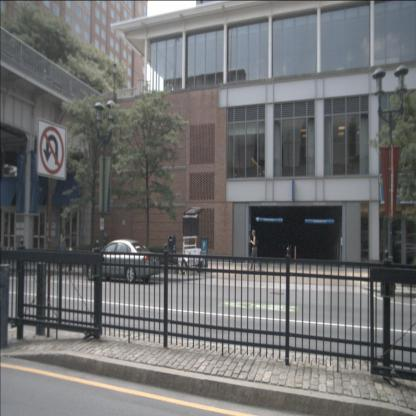cone: (293, 245, 297, 266)
